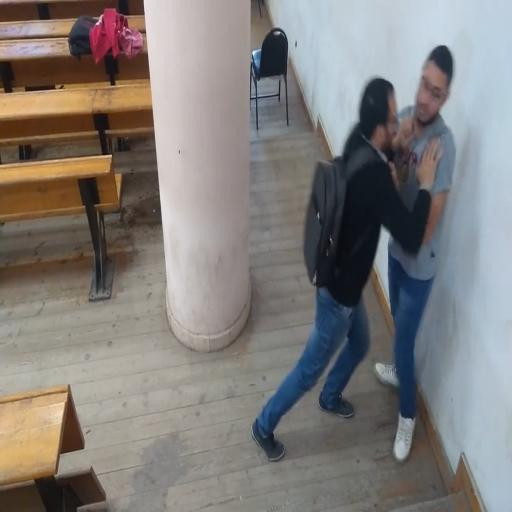violencia: (245, 30, 462, 486)
